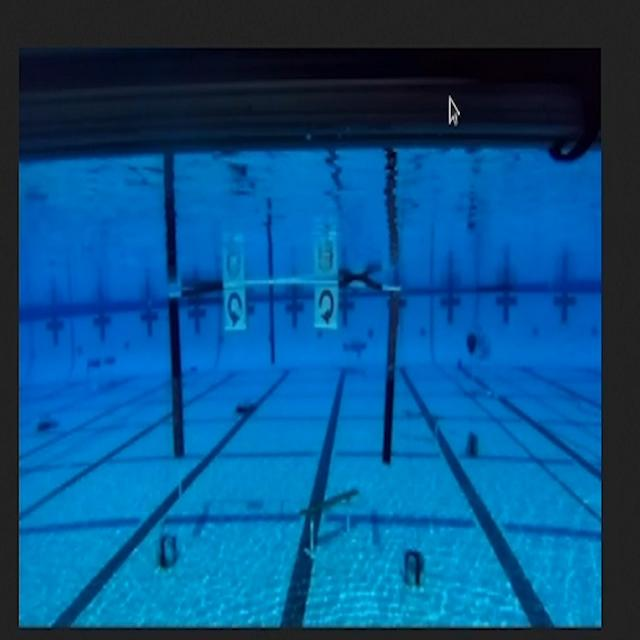Gate: (165, 270, 405, 477)
